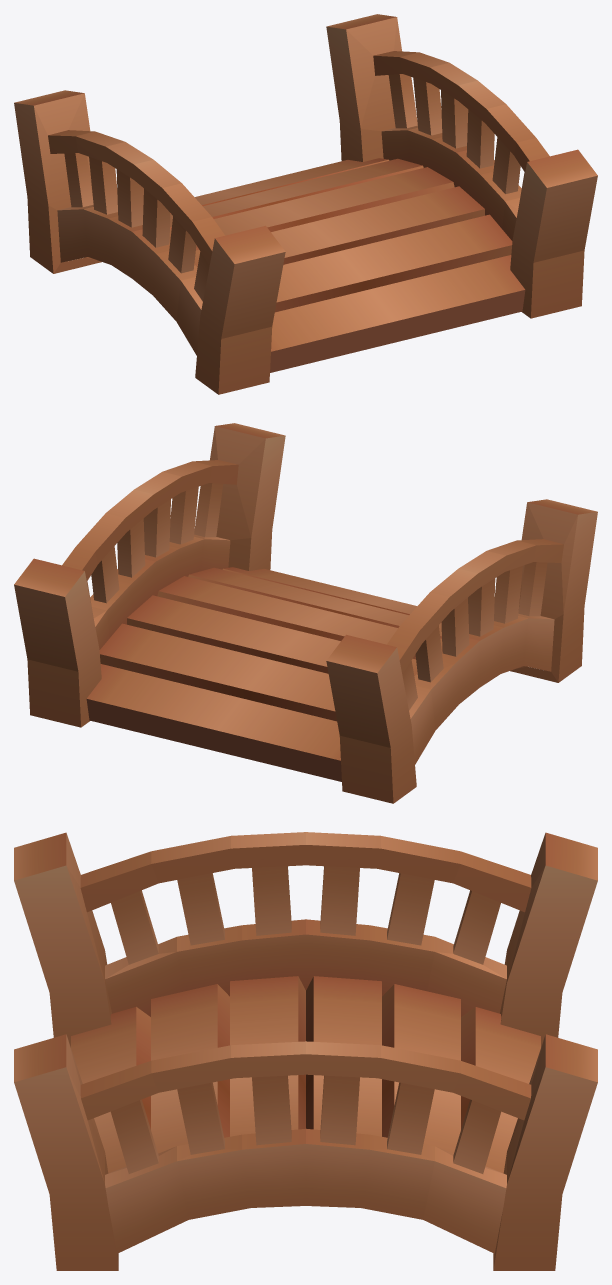
The model's file is WoodBridge.fbx.
3 renders of one model, top to bottom at view 1: azimuth 30°, elevation 25°; view 2: azimuth 150°, elevation 25°; view 3: azimuth 270°, elevation 25°, orthographic. The views are drawn at different scales.
Parts seen in each view (by area): view 1: Bridge; view 2: Bridge; view 3: Bridge.
Boxes of the visible parts, x1,y1,x2,y2 form: Bridge: (14, 14, 597, 394); Bridge: (14, 423, 597, 803); Bridge: (14, 832, 597, 1270).
Bounding box in the file's own units: 1.38 × 1.45 × 0.5779.
